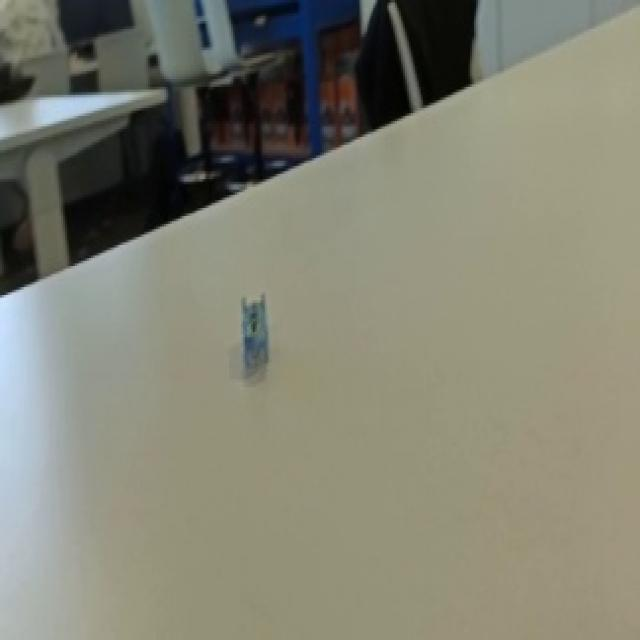3_NanoBug_Celeste: (224, 279, 278, 392)
